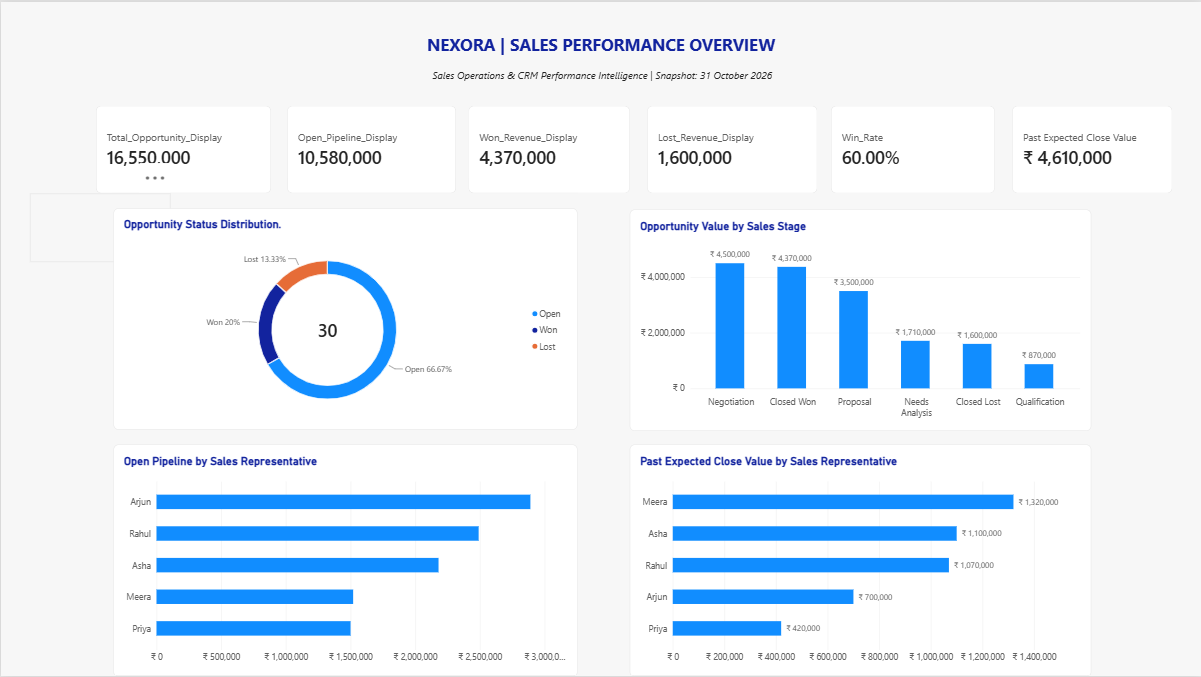

The dashboard page shown, as its layout file describes it:
{"tool":"powerbi","page":{"name":"Sales Performance Overview","canvas":[1920,1080],"ordinal":0},"visuals":[{"type":"cardVisual","fields":{"Data":["Nexora_Sales_Dataset.Total_Opportunity_Display"]},"box":[152,166,280,140],"z":0},{"type":"cardVisual","fields":{"Data":["Nexora_Sales_Dataset.Open_Pipeline_Display"]},"box":[458,166,270,140],"z":1000},{"type":"cardVisual","fields":{"Data":["Nexora_Sales_Dataset.Won_Revenue_Display"]},"box":[748,166,258,140],"z":2000},{"type":"cardVisual","fields":{"Data":["Nexora_Sales_Dataset.Lost_Revenue_Display"]},"box":[1034,166,272,140],"z":3000},{"type":"cardVisual","fields":{"Data":["Nexora_Sales_Dataset.Win_Rate"]},"box":[1328,166,262,140],"z":4000},{"type":"textbox","box":[45.3,306.7,226.4,109.1],"z":5000},{"type":"textbox","box":[390,50,1140,56],"z":6000},{"type":"textbox","box":[180,106,1564,60],"z":7000},{"type":"donutChart","title":"Opportunity Status Distribution.","fields":{"Category":["Nexora_Sales_Dataset.Opportunity_Status"],"Y":["CountNonNull(Nexora_Sales_Dataset.Opportunity_ID)"]},"box":[180,330,742,354],"z":8000},{"type":"clusteredColumnChart","title":"Opportunity Value by Sales Stage","fields":{"Category":["Nexora_Sales_Dataset.Opportunity_Stage"],"Y":["Sum(Nexora_Sales_Dataset.Opportunity_Amount)"]},"box":[1006,332,738,354],"z":9000},{"type":"clusteredBarChart","title":"Open Pipeline by Sales Representative","fields":{"Category":["Nexora_Sales_Dataset.Sales_Representative"],"Y":["Sum(Nexora_Sales_Dataset.Opportunity_Amount)"]},"box":[180,708,742,372],"z":10000},{"type":"clusteredBarChart","title":"Past Expected Close Value by Sales Representative","fields":{"Category":["Nexora_Sales_Dataset.Sales_Representative"],"Y":["Sum(Nexora_Sales_Dataset.Opportunity_Amount)"]},"box":[1006,708,738,372],"z":11000},{"type":"cardVisual","fields":{"Data":["Sum(Nexora_Sales_Dataset.Opportunity_Amount)"]},"box":[1618,166,256,140],"z":12000}]}

Visuals, with their boxes in screenshot pixels (x1, y1, x2, y2), scaled from the page's 1920x1080 canvas onto the 1201x677 screenshot:
cardVisual - Nexora_Sales_Dataset.Total_Opportunity_Display: region(95, 104, 270, 192)
cardVisual - Nexora_Sales_Dataset.Open_Pipeline_Display: region(286, 104, 455, 192)
cardVisual - Nexora_Sales_Dataset.Won_Revenue_Display: region(468, 104, 629, 192)
cardVisual - Nexora_Sales_Dataset.Lost_Revenue_Display: region(647, 104, 817, 192)
cardVisual - Nexora_Sales_Dataset.Win_Rate: region(831, 104, 995, 192)
textbox: region(28, 192, 170, 261)
textbox: region(244, 31, 957, 66)
textbox: region(113, 66, 1091, 104)
"Opportunity Status Distribution." donutChart: region(113, 207, 577, 429)
"Opportunity Value by Sales Stage" clusteredColumnChart: region(629, 208, 1091, 430)
"Open Pipeline by Sales Representative" clusteredBarChart: region(113, 444, 577, 676)
"Past Expected Close Value by Sales Representative" clusteredBarChart: region(629, 444, 1091, 676)
cardVisual - Sum(Nexora_Sales_Dataset.Opportunity_Amount): region(1012, 104, 1172, 192)
